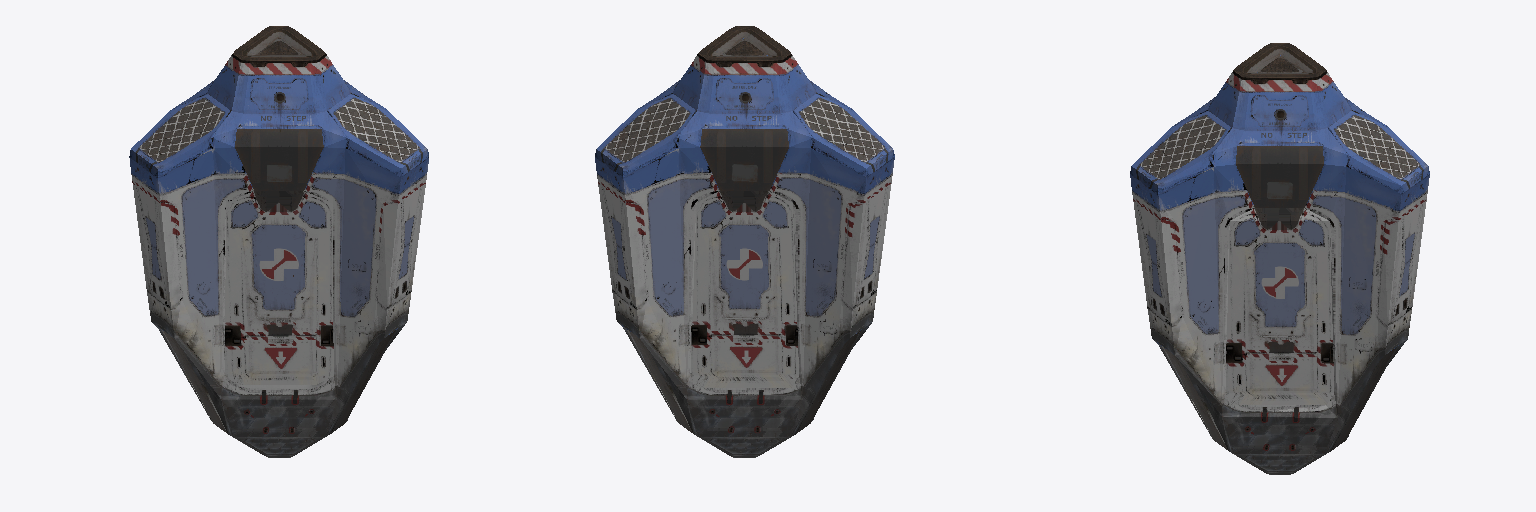
3 views of the same model, side by side, from view 1: azimuth 30°, elevation 25°; view 2: azimuth 150°, elevation 25°; view 3: azimuth 270°, elevation 25° (orthographic).
Visible parts, largest first — view 1: drop_pod_loot_main_holo_v2; view 2: drop_pod_loot_main_holo_v2; view 3: drop_pod_loot_main_holo_v2.
Part boxes in pixels (left/top/right/bottom): drop_pod_loot_main_holo_v2: left=129, top=26, right=428, bottom=457; drop_pod_loot_main_holo_v2: left=595, top=26, right=894, bottom=457; drop_pod_loot_main_holo_v2: left=1130, top=43, right=1429, bottom=474.
Bounding box in the file's own units: 21.07 × 36.43 × 24.31.
Materials: 1 (1 with a texture image).